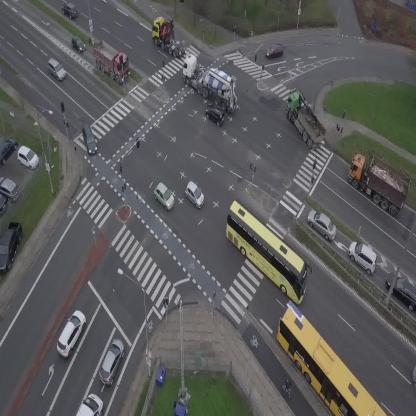bicycle: (282, 378, 292, 398)
bus: (259, 299, 387, 416), (209, 199, 324, 306)
car: (52, 308, 90, 358), (95, 336, 129, 387), (342, 237, 385, 277), (302, 205, 343, 244), (149, 181, 179, 212), (180, 180, 210, 209), (202, 100, 229, 127), (43, 56, 69, 83), (80, 122, 98, 155), (67, 33, 88, 55), (60, 1, 78, 20), (265, 43, 284, 58)
lorry: (172, 51, 251, 115), (278, 87, 331, 150), (84, 36, 138, 87), (145, 11, 188, 65), (76, 393, 103, 416)
